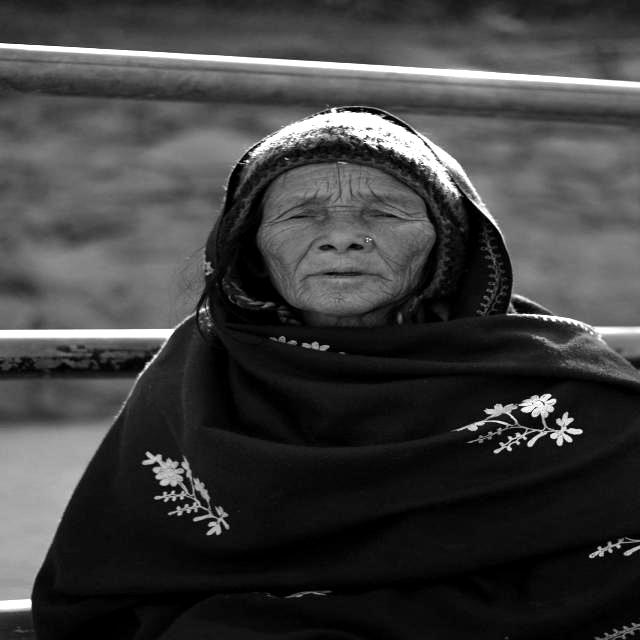no_hard_hat: (201, 107, 512, 324)
person: (34, 159, 639, 637)
